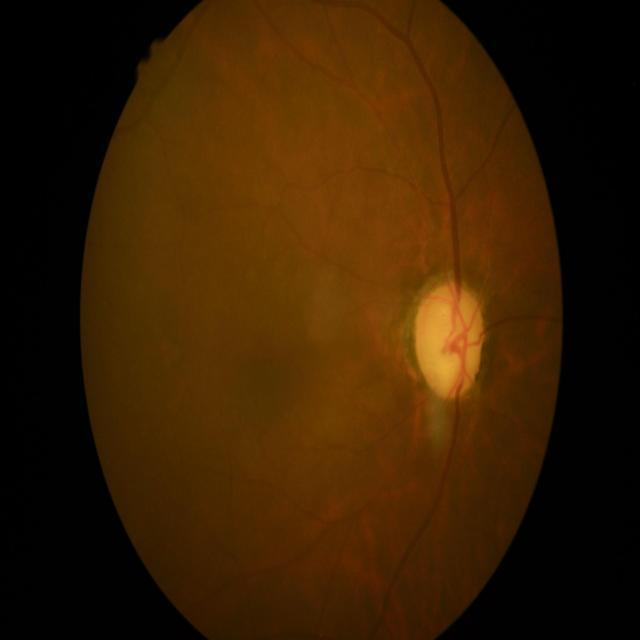cup: (419, 290, 479, 390)
disk: (412, 282, 485, 402)
